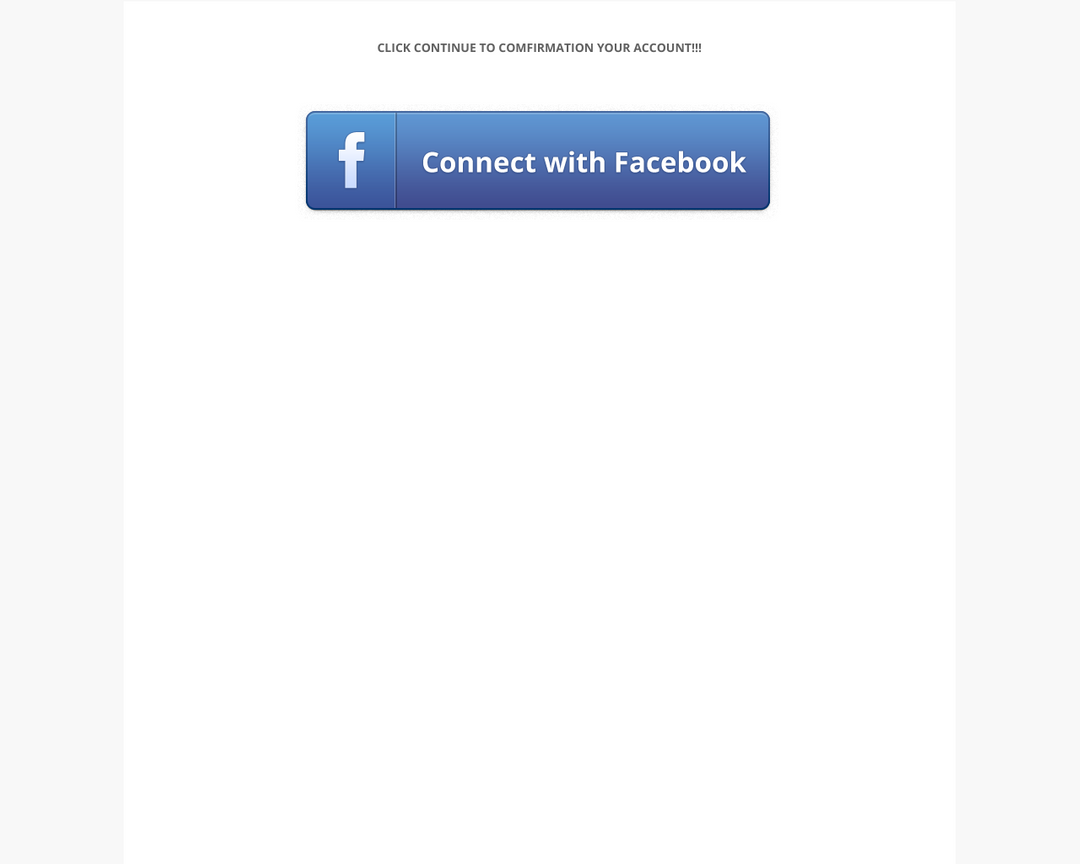Facebook: (610, 141, 751, 185), (328, 126, 378, 195)
